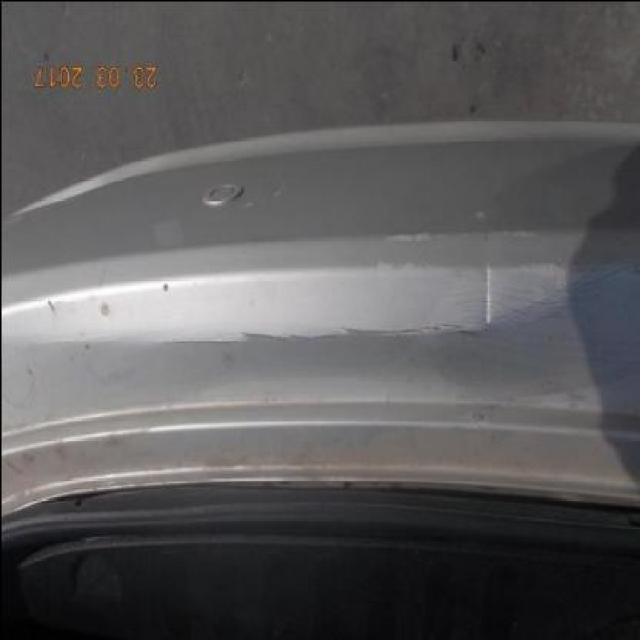damage: (141, 259, 633, 359)
